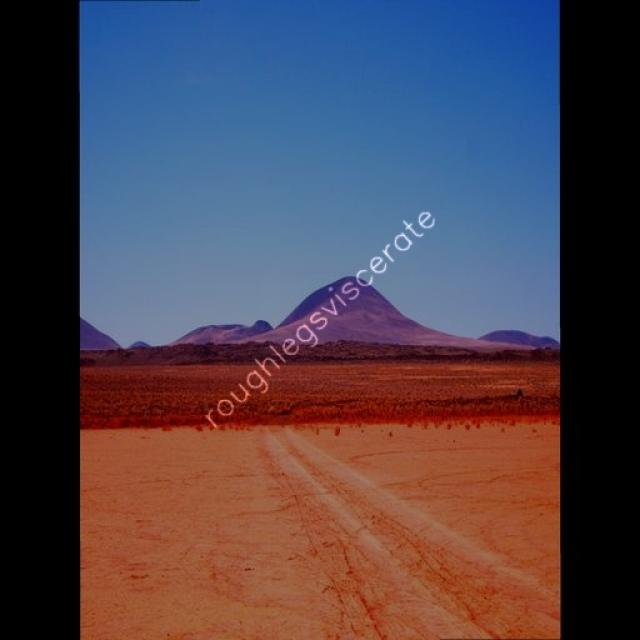watermark: (204, 193, 437, 435)
